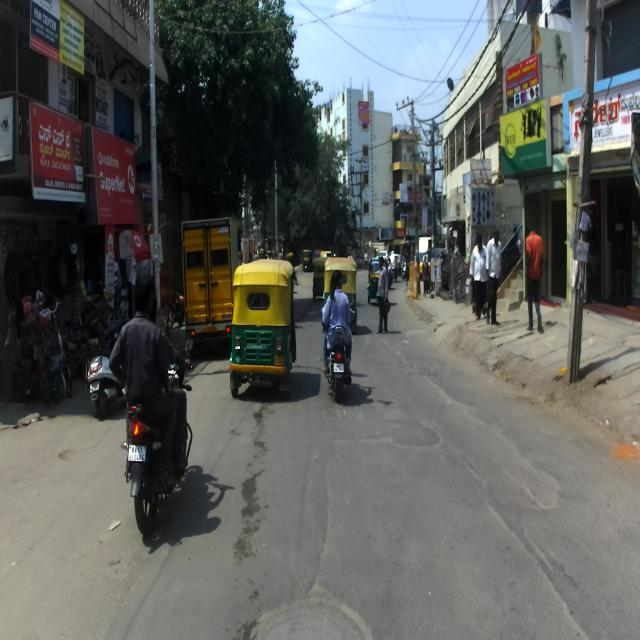auto ahead at: (230, 264, 300, 399)
electric pole ahead at: (567, 0, 606, 401)
motorcycle ahead at: (116, 402, 196, 528), (322, 347, 356, 394)
person ahead at: (374, 250, 397, 334)
